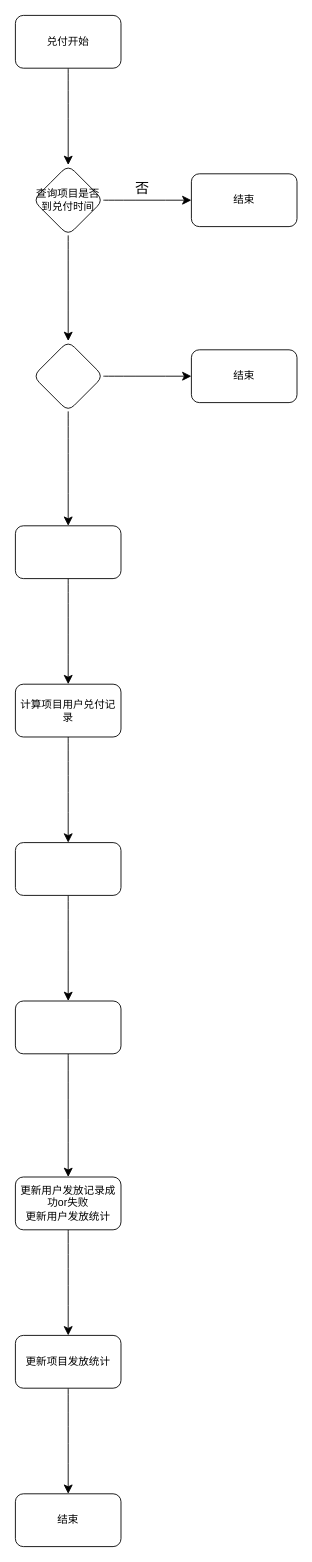
Image size: 312x1562. Some labels were removed from this diagram. Here are the shapes that lost their labels. From the top down, the centre of each, then its label:
point 67,375: 判断是否在兑付中
point 68,552: 生成项目兑付记录
point 68,868: 创建用户兑付记录
point 68,1027: 资产发放
